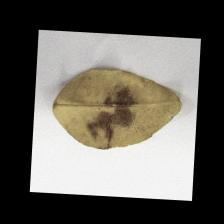black spot: (83, 86, 145, 136)
